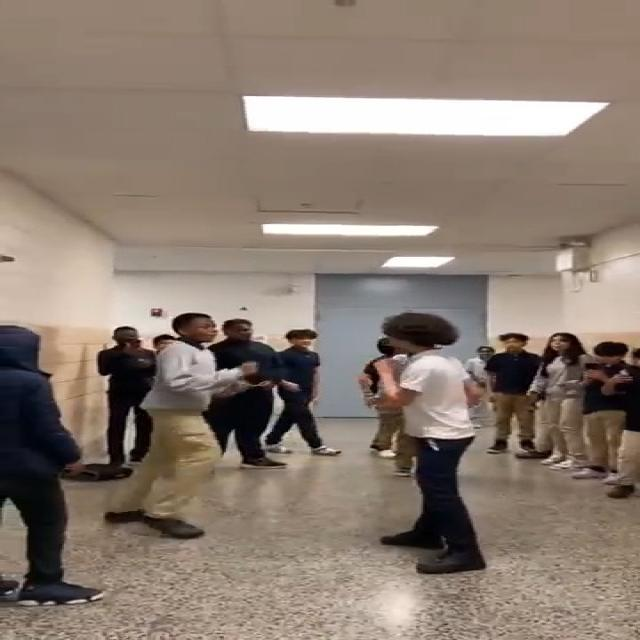fight: (112, 307, 518, 574)
